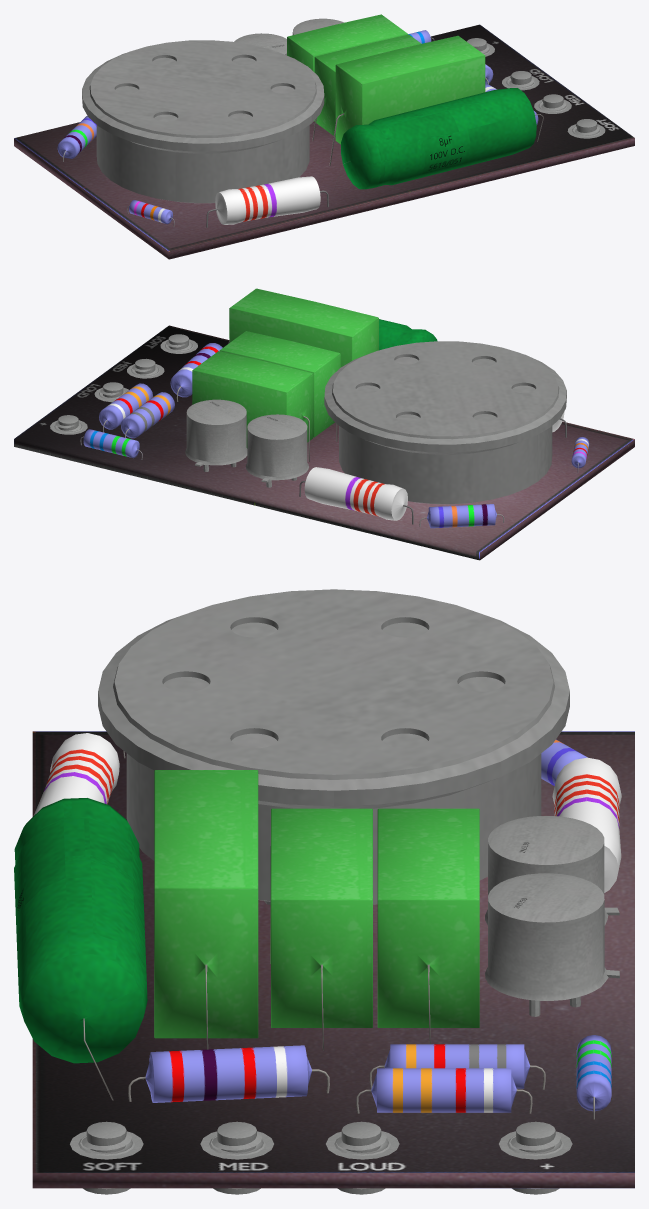
The model's file is Circuitboard.glb.
3 renders of one model, top to bottom at view 1: azimuth 30°, elevation 25°; view 2: azimuth 150°, elevation 25°; view 3: azimuth 270°, elevation 25°, orthographic. The views are drawn at different scales.
Visible parts, largest first — view 1: Buzzer, Board, Capacitor04, Capacitor02, Resistor07, Capacitor03, Capacitor01, Resistor05, Resistor06, Transistor01, Transistor02; view 2: Buzzer, Board, Capacitor02, Capacitor03, Transistor02, Transistor01, Capacitor01, Resistor08, Resistor05, Resistor03, Resistor02, Capacitor04 (+3 smaller); view 3: Buzzer, Board, Capacitor04, Capacitor02, Capacitor03, Capacitor01, Transistor02, Resistor04, Transistor01, Resistor02, Resistor08, Resistor07 (+11 smaller).
Boxes of the visible parts, x1,y1,x2,y2 form: Buzzer: [82, 40, 324, 203]; Board: [14, 24, 634, 259]; Capacitor04: [336, 88, 543, 189]; Capacitor02: [329, 35, 485, 165]; Resistor07: [206, 176, 328, 227]; Capacitor03: [287, 14, 407, 72]; Capacitor01: [312, 34, 421, 141]; Resistor05: [57, 116, 96, 161]; Resistor06: [127, 200, 174, 227]; Transistor01: [234, 33, 286, 55]; Transistor02: [292, 18, 343, 34]; Buzzer: [324, 341, 566, 504]; Board: [14, 325, 634, 560]; Capacitor02: [229, 288, 378, 367]; Capacitor03: [192, 351, 312, 461]; Transistor02: [185, 399, 247, 471]; Transistor01: [245, 414, 308, 487]; Capacitor01: [219, 331, 340, 441]; Resistor08: [299, 467, 413, 524]; Resistor05: [419, 504, 504, 528]; Resistor03: [121, 392, 174, 438]; Resistor02: [99, 383, 153, 432]; Capacitor04: [228, 319, 437, 350]; Buzzer: [98, 589, 569, 904]; Board: [32, 731, 634, 1188]; Capacitor04: [14, 798, 147, 1100]; Capacitor02: [154, 770, 258, 1049]; Capacitor03: [377, 808, 479, 1044]; Capacitor01: [270, 808, 372, 1050]; Transistor02: [485, 873, 619, 1016]; Resistor04: [128, 1045, 329, 1102]; Transistor01: [485, 816, 619, 925]; Resistor02: [356, 1068, 532, 1113]; Resistor08: [552, 757, 621, 892]; Resistor07: [33, 733, 119, 815].
Bounding box in the file's own units: 0.099 × 0.0222 × 0.0588.
Materials: 12 (12 with a texture image).
